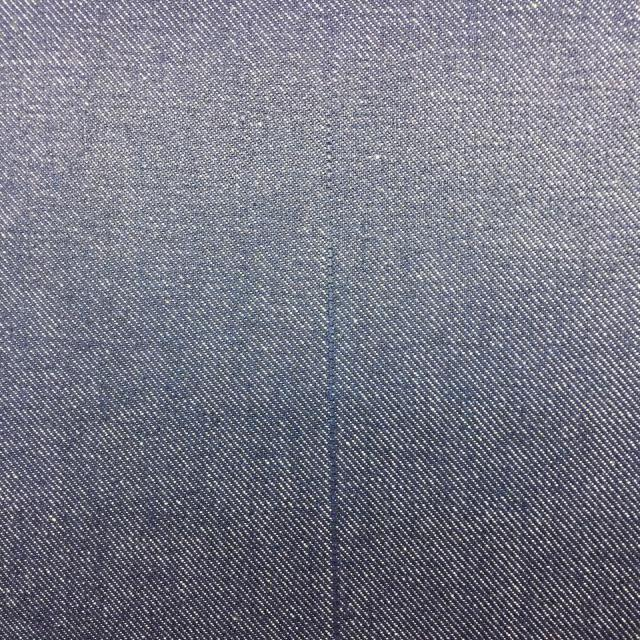Line: (323, 0, 344, 640)
